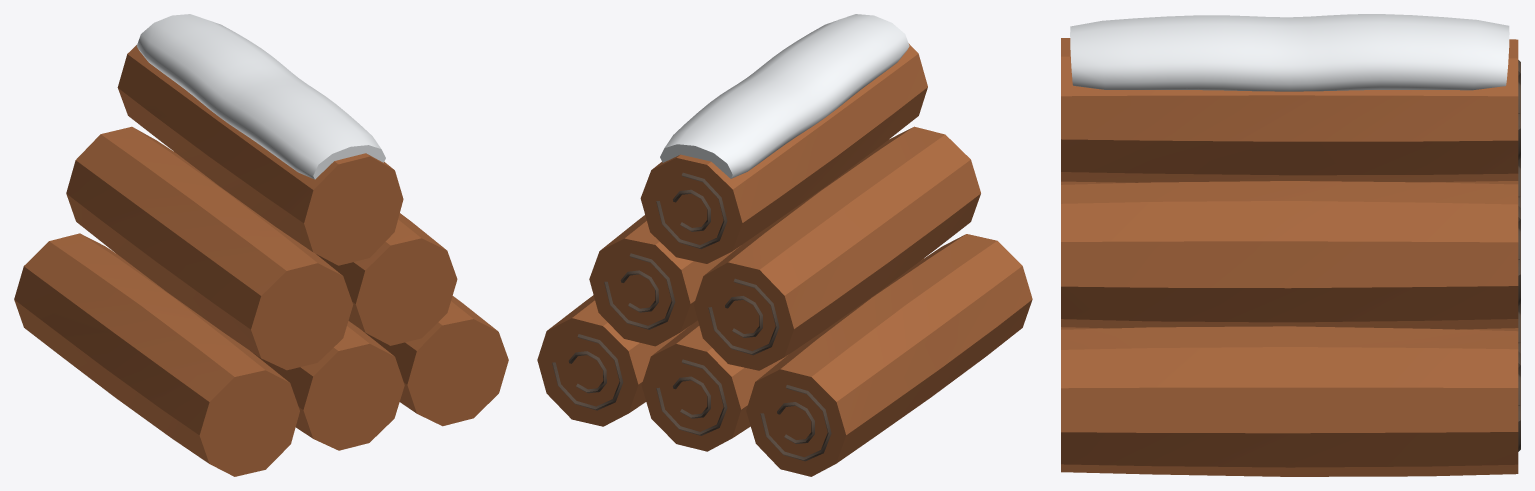
File: SnowyLogPile.obj
3 renders of one model, left to right at view 1: azimuth 30°, elevation 25°; view 2: azimuth 150°, elevation 25°; view 3: azimuth 270°, elevation 25°, orthographic. The views are drawn at different scales.
Parts seen in each view (by area): view 1: SnowyLogPile; view 2: SnowyLogPile; view 3: SnowyLogPile.
Boxes of the visible parts, box(x1,y1,x2,y2) form: SnowyLogPile: box(14, 14, 508, 476); SnowyLogPile: box(537, 14, 1032, 476); SnowyLogPile: box(1061, 14, 1520, 476).
Bounding box in the file's own units: 6.32 × 6 × 6.54.
Materials: 1 (1 with a texture image).
